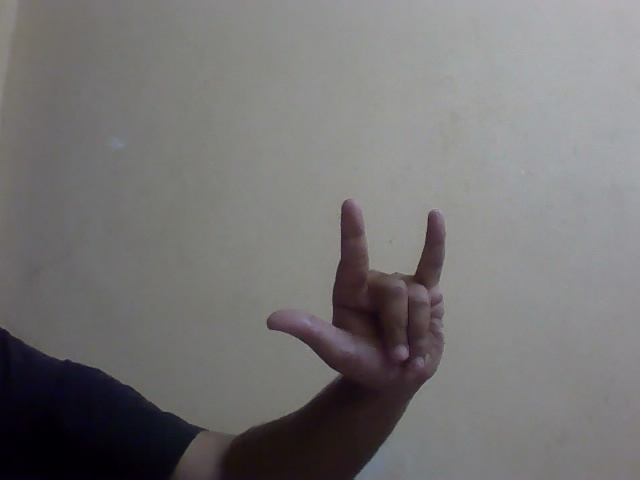I love you: (261, 190, 466, 402)
